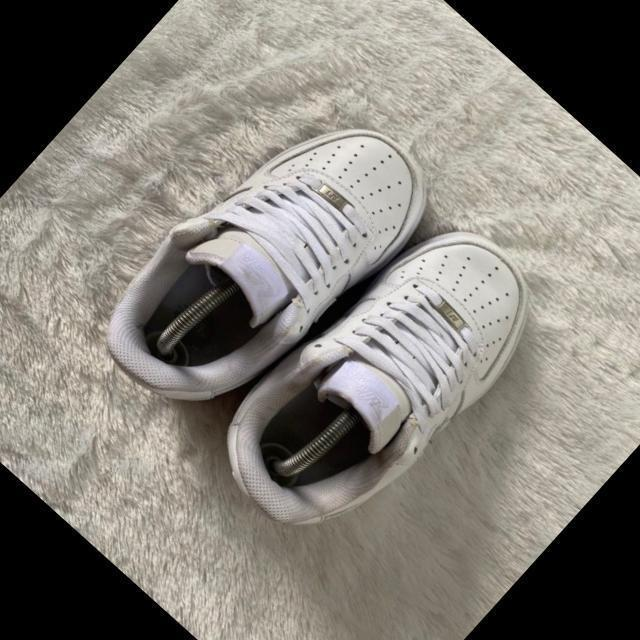nike fake air force: (73, 66, 455, 459), (190, 185, 569, 577)
